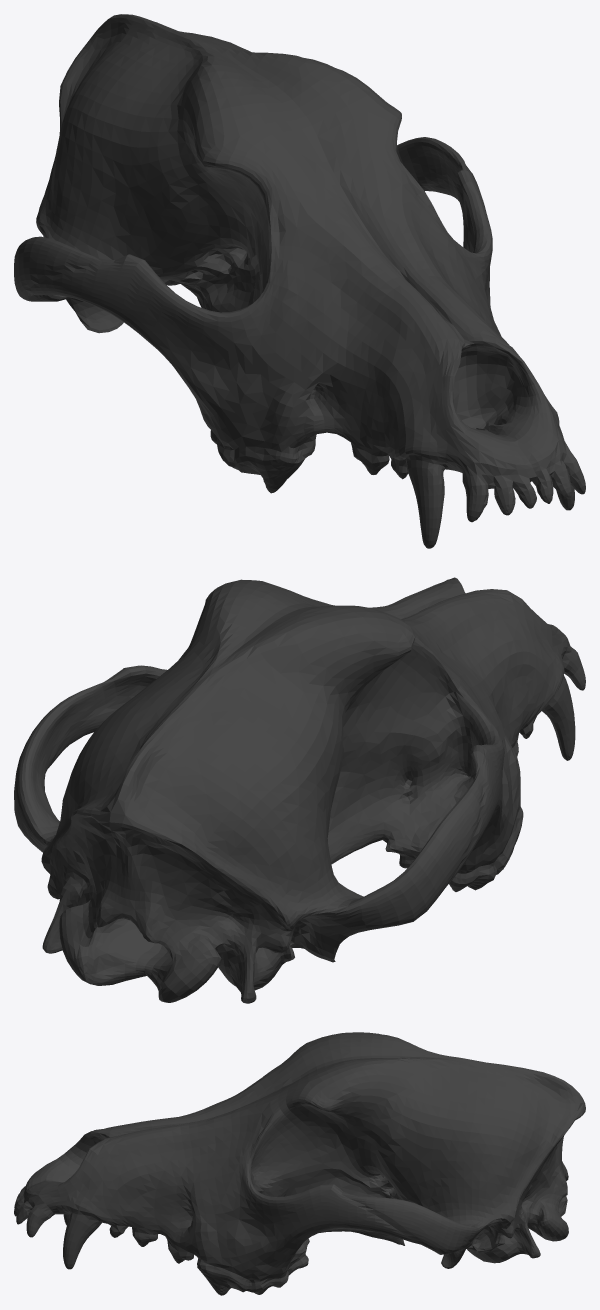
The model's file is k9_skull_retopo.glb.
The picture shows the model from 3 angles, top to bottom: view 1: azimuth 30°, elevation 25°; view 2: azimuth 150°, elevation 25°; view 3: azimuth 270°, elevation 25°; orthographic projection. The views are drawn at different scales.
Parts seen in each view (by area): view 1: k9_skull_retopo; view 2: k9_skull_retopo; view 3: k9_skull_retopo.
Boxes of the visible parts, box(x1,y1,x2,y2) form: k9_skull_retopo: box(14, 14, 585, 548); k9_skull_retopo: box(14, 577, 585, 1003); k9_skull_retopo: box(14, 1032, 585, 1295).
Bounding box in the file's own units: 136 × 98.2 × 243.
1 material, 1 textured.
